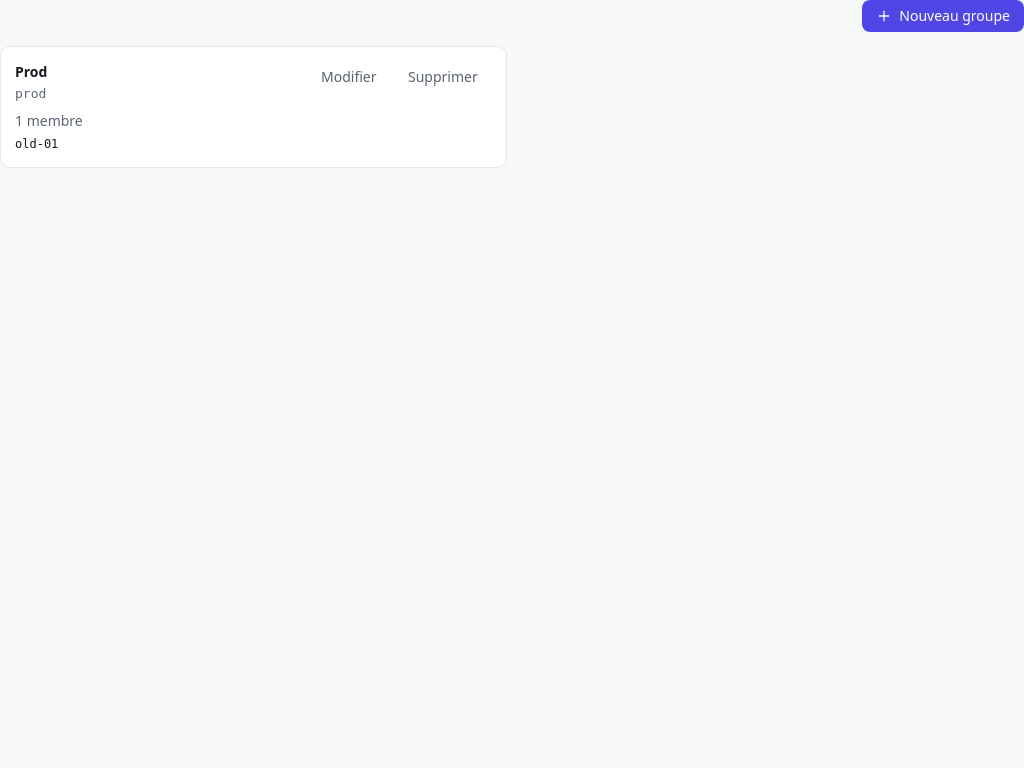
it: les éléments inactifs ne sont jamais proposés › groupe: un membre désactivé n'est proposé que s'il l'est déjà
Step 1. Click the button "Modifier" → (349, 76), box [307,60,390,92]
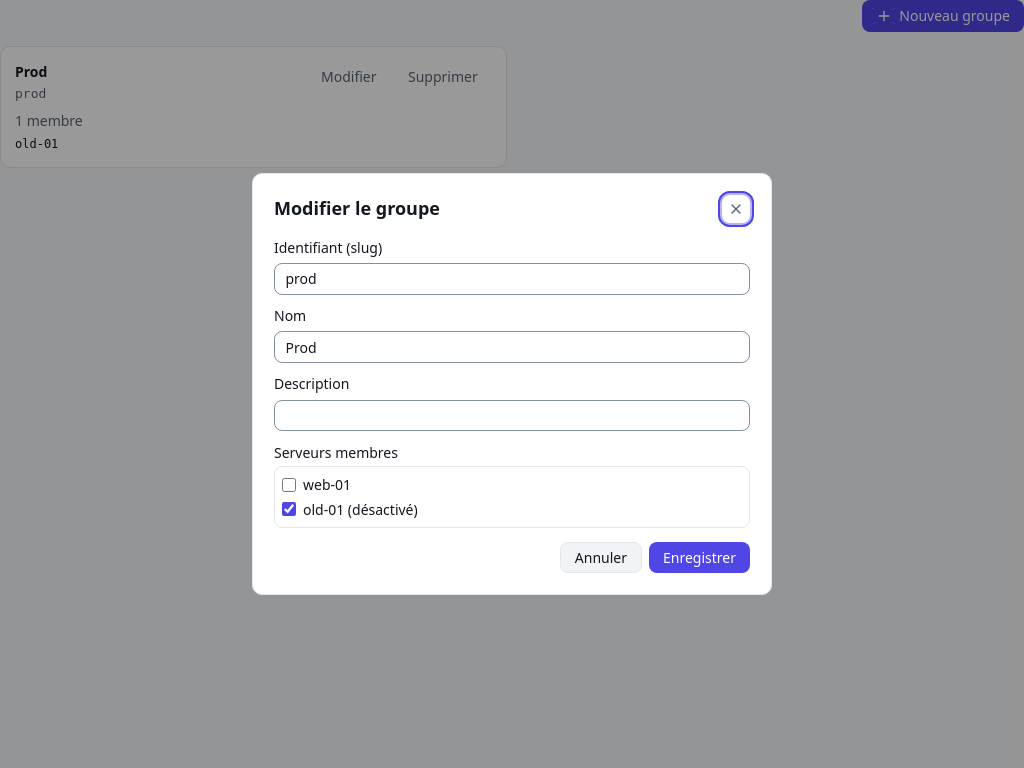
Expected: the field labelled "Nom" holds "Prod", [274,331,750,363]
Expected: the checkbox labelled "web-01" is shown, [282,478,296,492]
Expected: the checkbox labelled "old-01 (désactivé)" is checked, [282,502,296,516]
